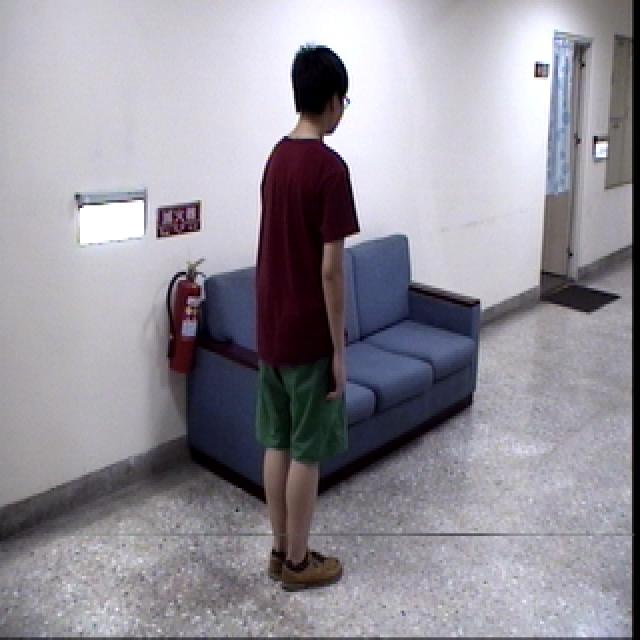stand: (237, 40, 381, 608)
